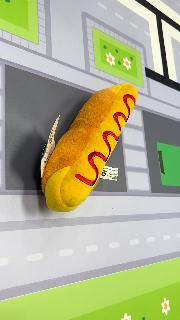hotdog: (42, 83, 138, 213)
